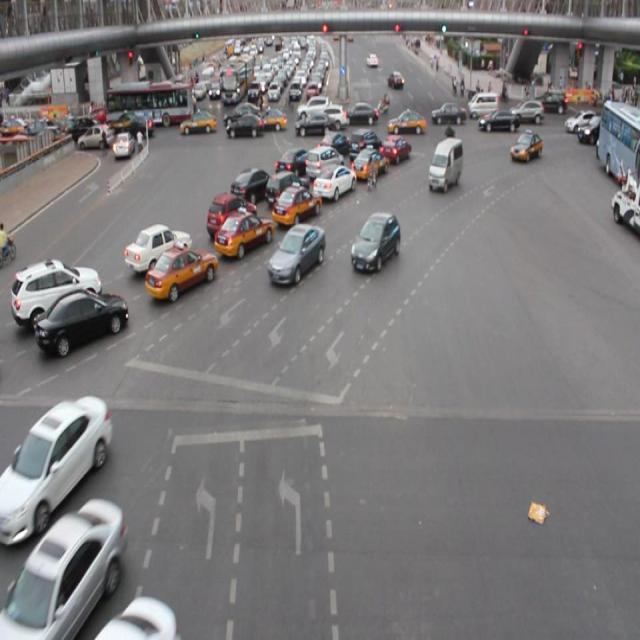car: (1, 499, 120, 640), (0, 395, 110, 539), (36, 287, 130, 354), (12, 257, 102, 325), (145, 243, 216, 302), (125, 224, 193, 276), (268, 223, 324, 284), (350, 210, 400, 272), (215, 210, 271, 256), (206, 193, 257, 240), (272, 184, 320, 228), (265, 170, 310, 210), (312, 163, 355, 202), (229, 167, 272, 203), (274, 149, 315, 182), (350, 146, 387, 180), (508, 129, 542, 165), (347, 130, 382, 163), (379, 133, 410, 166), (316, 131, 349, 161)
truck: (427, 138, 463, 190), (304, 145, 343, 184)
